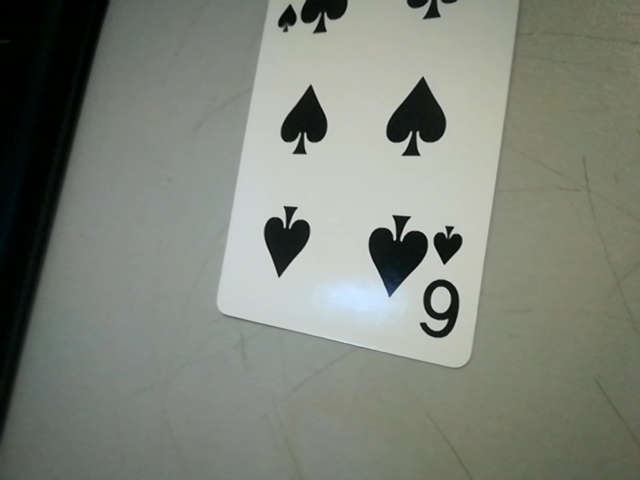ht 6: (414, 218, 475, 353)
